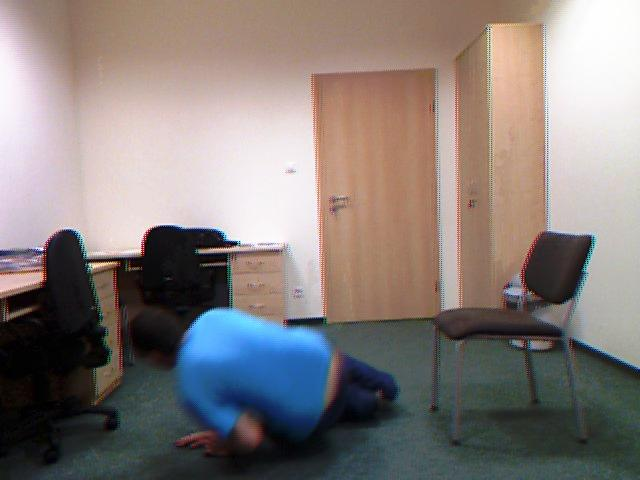fall: (109, 293, 430, 464)
